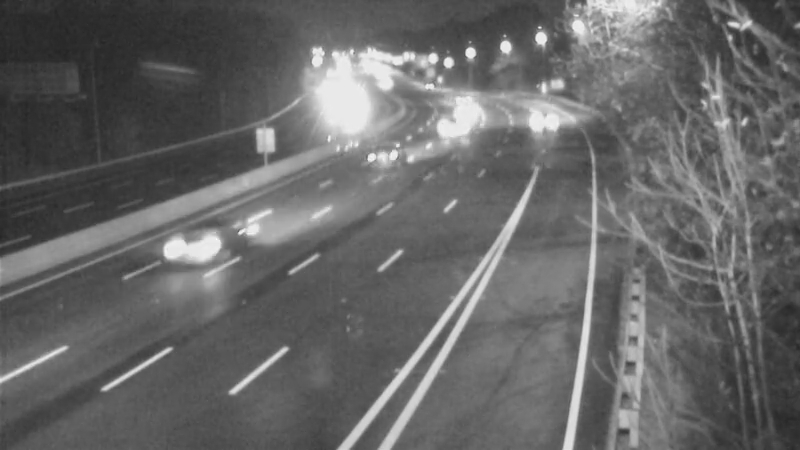vehicle: (345, 119, 425, 199), (159, 204, 239, 284), (439, 73, 489, 123), (510, 89, 560, 139), (441, 84, 491, 134), (425, 98, 475, 148)
